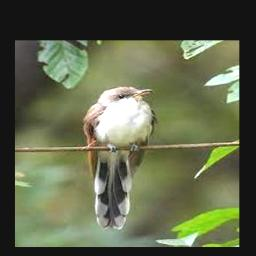Cuckoo: (83, 86, 159, 231)
